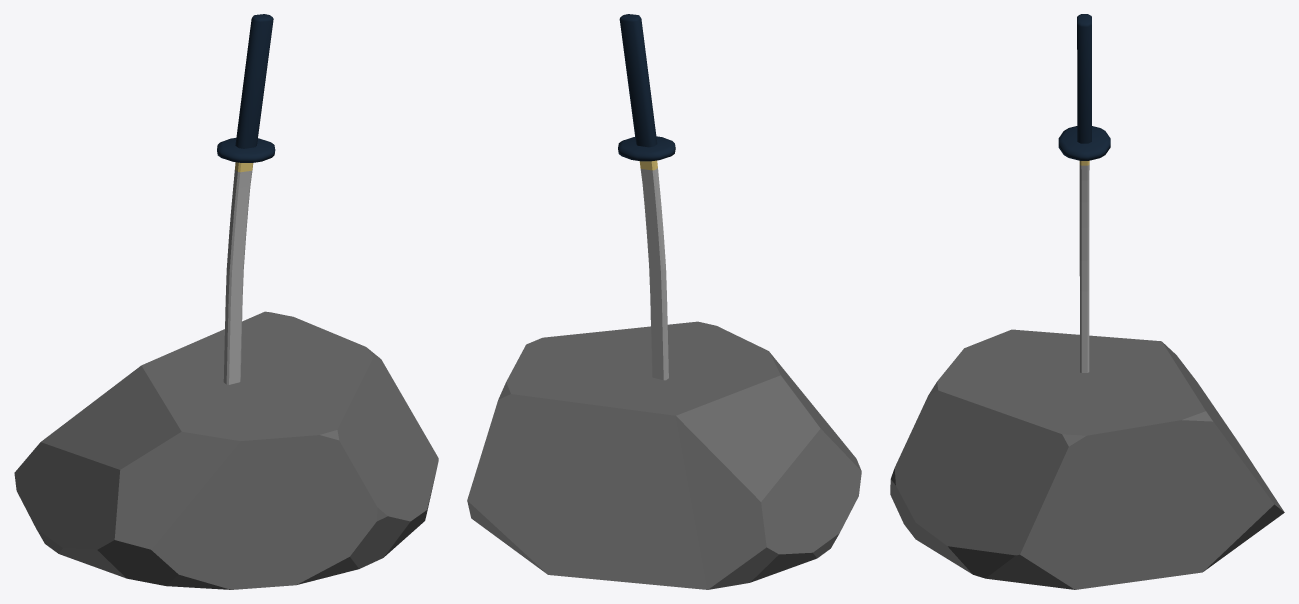
Rendered from KatanaCravadaNaPedra.fbx.
The picture shows the model from 3 angles, left to right: view 1: azimuth 30°, elevation 25°; view 2: azimuth 150°, elevation 25°; view 3: azimuth 270°, elevation 25°; orthographic projection. The views are drawn at different scales.
Parts seen in each view (by area): view 1: KatanaCravadaNaPedra_LOD0; view 2: KatanaCravadaNaPedra_LOD0; view 3: KatanaCravadaNaPedra_LOD0.
Boxes of the visible parts, x1,y1,x2,y2 form: KatanaCravadaNaPedra_LOD0: [14, 14, 438, 589]; KatanaCravadaNaPedra_LOD0: [467, 14, 861, 589]; KatanaCravadaNaPedra_LOD0: [890, 14, 1284, 589].
Size of what is drawn, in the model's own units: 79.53 by 107 by 75.92.
